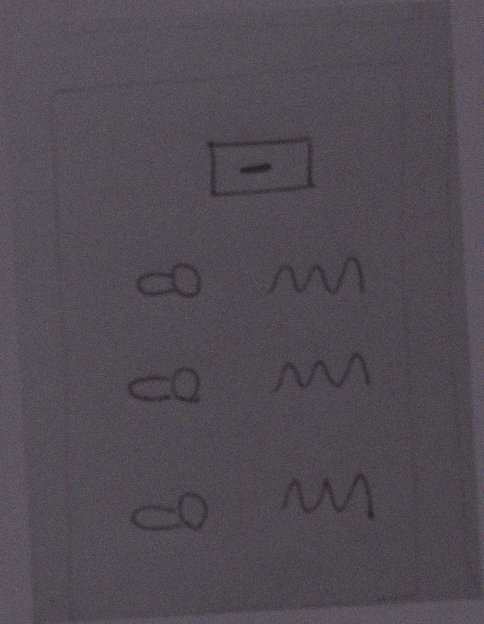button: (195, 126, 330, 210)
switch: (120, 250, 220, 319), (122, 480, 217, 551), (121, 358, 212, 418)
text: (262, 459, 388, 537), (247, 242, 376, 308), (256, 341, 381, 408)
